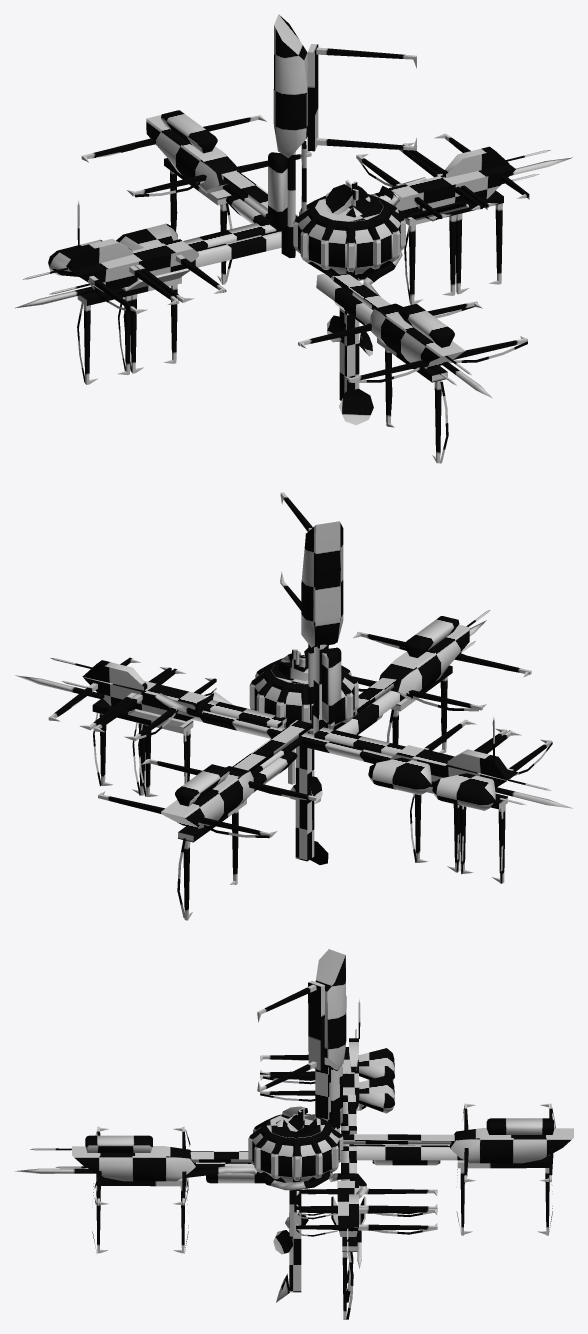
File: low_station_base.obj
3 renders of one model, top to bottom at view 1: azimuth 30°, elevation 25°; view 2: azimuth 150°, elevation 25°; view 3: azimuth 270°, elevation 25°, orthographic. The views are drawn at different scales.
Parts seen in each view (by area): view 1: low_station; view 2: low_station; view 3: low_station.
Part boxes in pixels (x1,y1,x2,y2): low_station: [15, 14, 572, 463]; low_station: [15, 492, 572, 920]; low_station: [15, 949, 573, 1319].
Bounding box in the file's own units: 905 × 593 × 912.
Materials: 1 (1 with a texture image).
